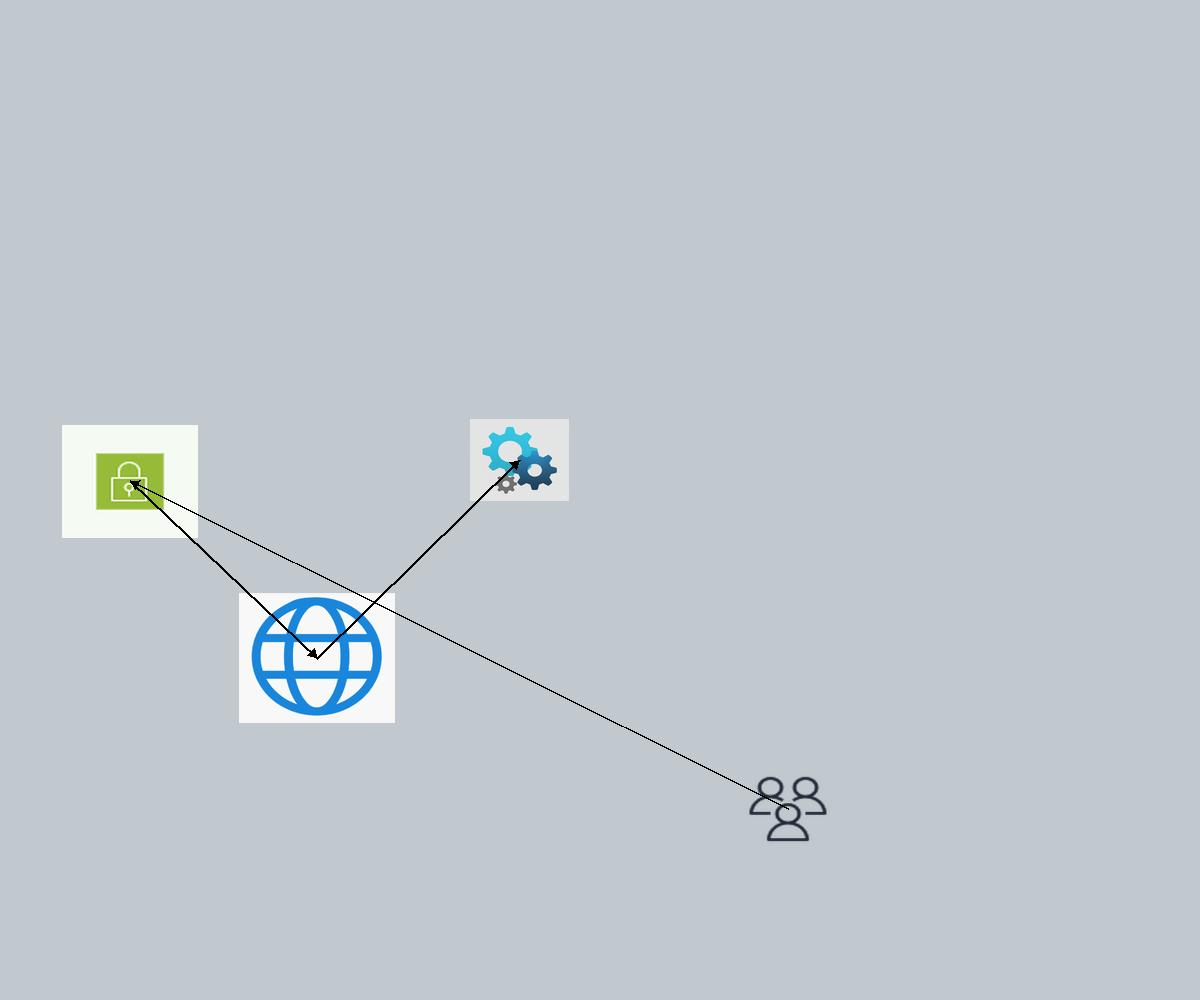AWS-Public-subnet: (62, 425, 198, 538)
AWS-Res_Users: (746, 774, 830, 844)
Azure_api: (470, 419, 569, 501)
Azure_http: (239, 593, 395, 723)
